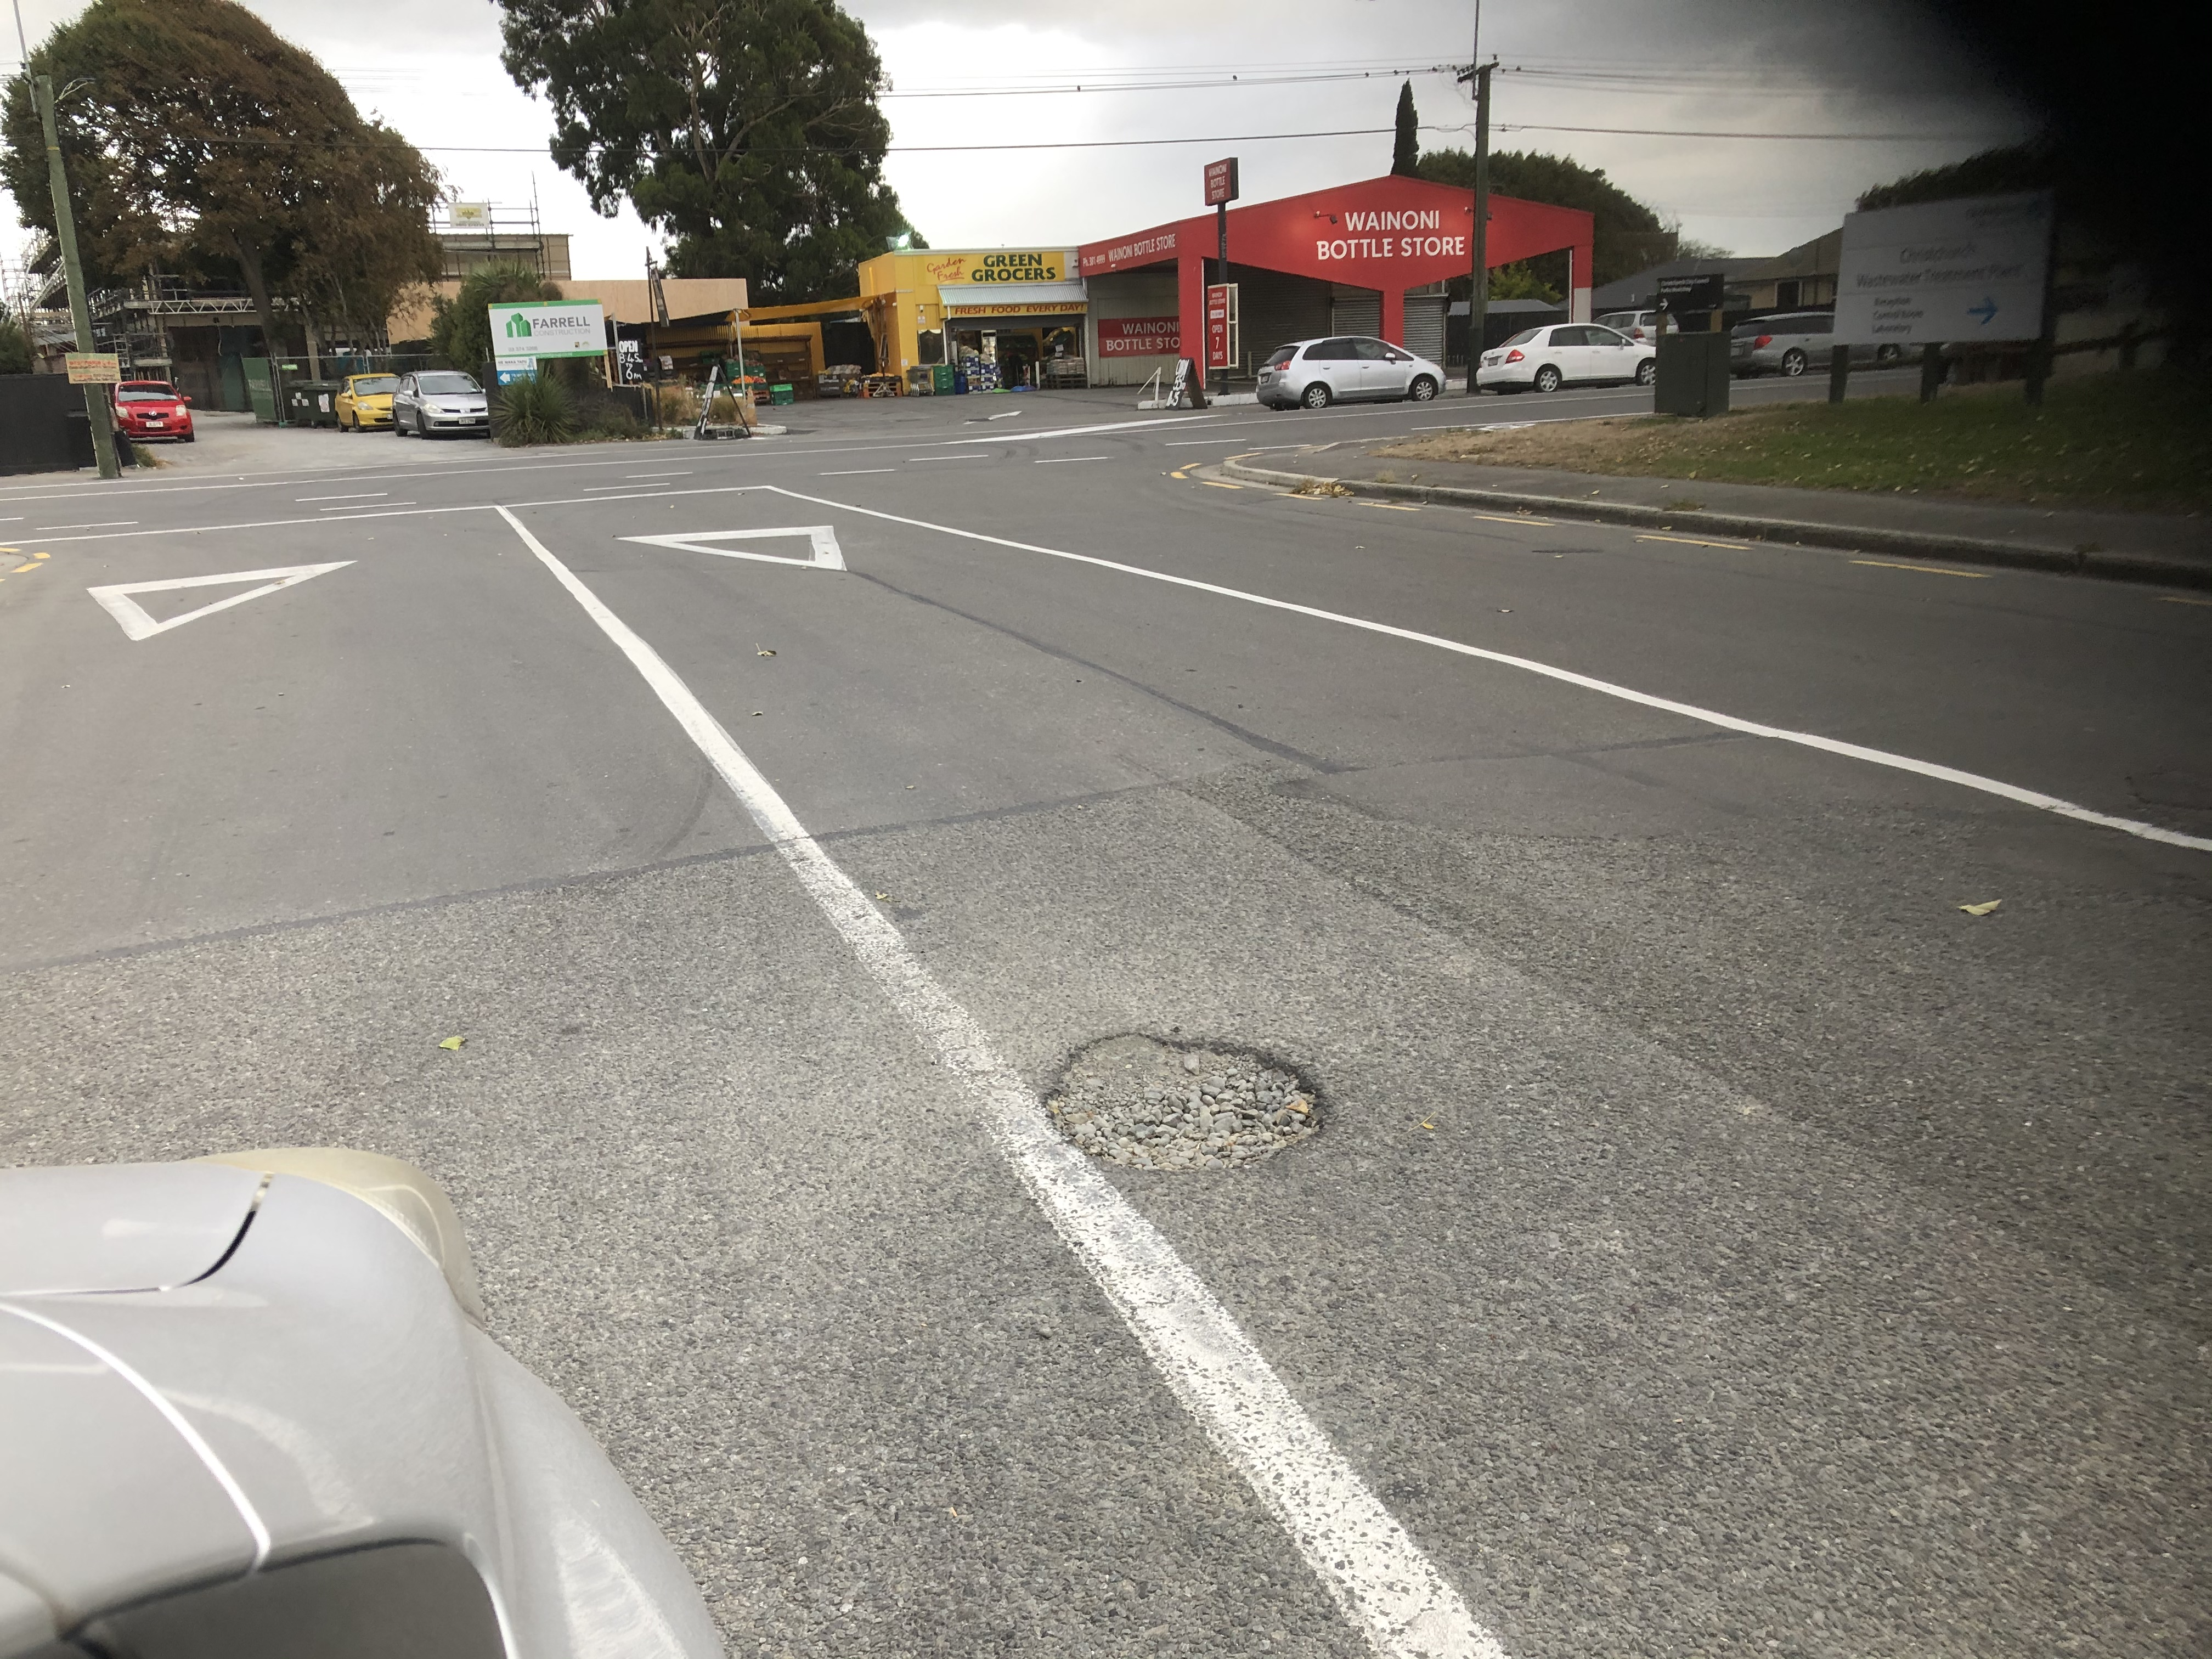pothole: (1019, 1026, 1327, 1171)
